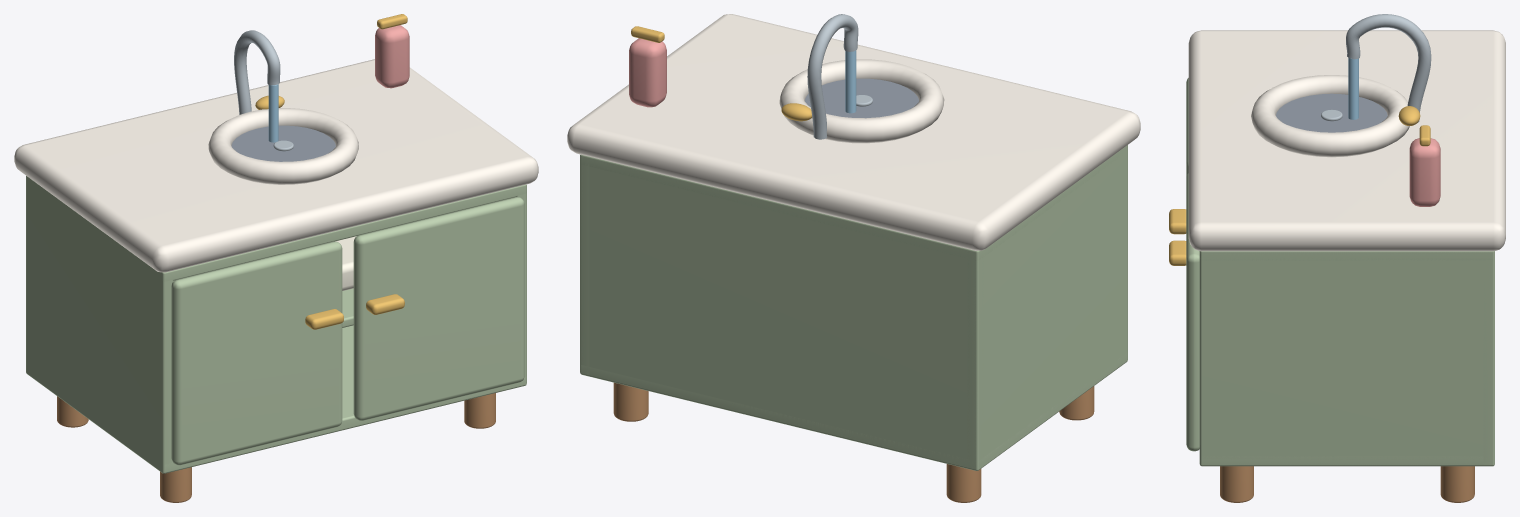
Rendered from kitchenSinkCabinet.glb.
3 views of the same model, side by side, from view 1: azimuth 30°, elevation 25°; view 2: azimuth 150°, elevation 25°; view 3: azimuth 270°, elevation 25° (orthographic). The views are drawn at different scales.
Visible parts, largest first — view 1: Stone counter, Cabinet door, Cabinet door.001, Storage inner side, Porcelain basin rim, Storage inner floor.001, Storage inner floor, Basin recess, Soap bottle, Gooseneck faucet, Furniture foot, Furniture foot.002 (+6 smaller); view 2: Storage inner back, Stone counter, Storage inner side, Porcelain basin rim, Storage inner floor, Storage inner floor.001, Basin recess, Soap bottle, Gooseneck faucet, Storage inner side.001, Furniture foot.001, Furniture foot.003 (+2 smaller); view 3: Storage inner side.001, Stone counter, Porcelain basin rim, Cabinet door.001, Basin recess, Storage inner floor, Gooseneck faucet, Soap bottle, Storage inner back, Storage inner floor.001, Furniture foot.003, Furniture foot.002 (+3 smaller).
Boxes of the visible parts, x1,y1,x2,y2 form: Stone counter: [14, 59, 538, 272]; Cabinet door: [171, 241, 342, 465]; Cabinet door.001: [353, 197, 524, 420]; Storage inner side: [26, 176, 173, 473]; Porcelain basin rim: [208, 108, 358, 184]; Storage inner floor.001: [105, 184, 526, 281]; Storage inner floor: [163, 325, 526, 473]; Basin recess: [231, 125, 335, 161]; Soap bottle: [375, 25, 409, 88]; Gooseneck faucet: [234, 30, 280, 114]; Furniture foot: [160, 467, 191, 502]; Furniture foot.002: [464, 393, 495, 428]; Storage inner back: [580, 156, 983, 470]; Stone counter: [567, 14, 1140, 250]; Storage inner side: [967, 145, 1127, 470]; Porcelain basin rim: [779, 59, 944, 143]; Storage inner floor: [580, 353, 1127, 470]; Storage inner floor.001: [580, 146, 1126, 260]; Basin recess: [805, 78, 918, 118]; Soap bottle: [629, 38, 666, 107]; Gooseneck faucet: [807, 14, 858, 139]; Storage inner side.001: [580, 154, 589, 376]; Furniture foot.001: [946, 464, 981, 502]; Furniture foot.003: [613, 382, 648, 421]; Storage inner side.001: [1199, 251, 1494, 466]; Stone counter: [1188, 30, 1505, 251]; Porcelain basin rim: [1251, 75, 1409, 157]; Cabinet door.001: [1186, 173, 1199, 451]; Basin recess: [1276, 93, 1387, 132]; Storage inner floor: [1201, 456, 1492, 465]; Gooseneck faucet: [1346, 14, 1431, 122]; Soap bottle: [1409, 138, 1440, 206]; Storage inner back: [1483, 251, 1493, 464]; Storage inner floor.001: [1201, 251, 1493, 260]; Furniture foot.003: [1440, 466, 1474, 502]; Furniture foot.002: [1220, 466, 1253, 502].
Bounding box in the file's own units: 1.53 × 1.43 × 1.08.
